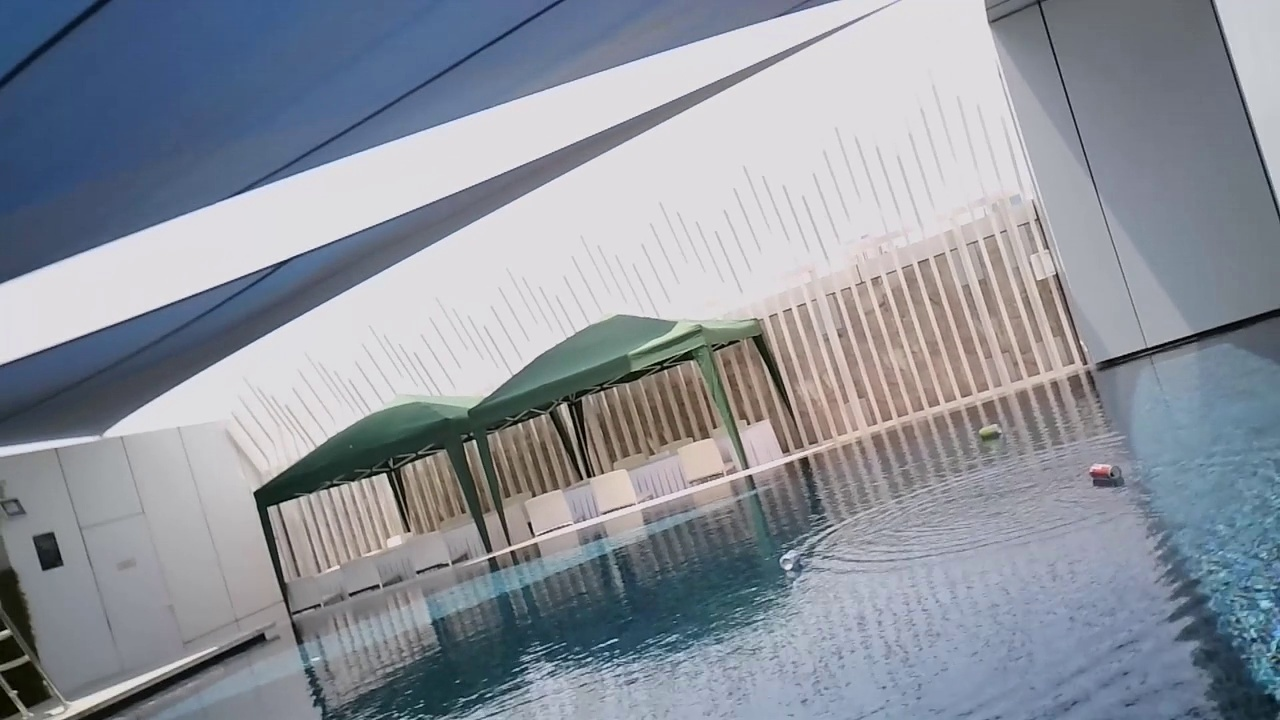debris: (1087, 459, 1125, 487), (778, 545, 804, 573), (972, 420, 1005, 442)
